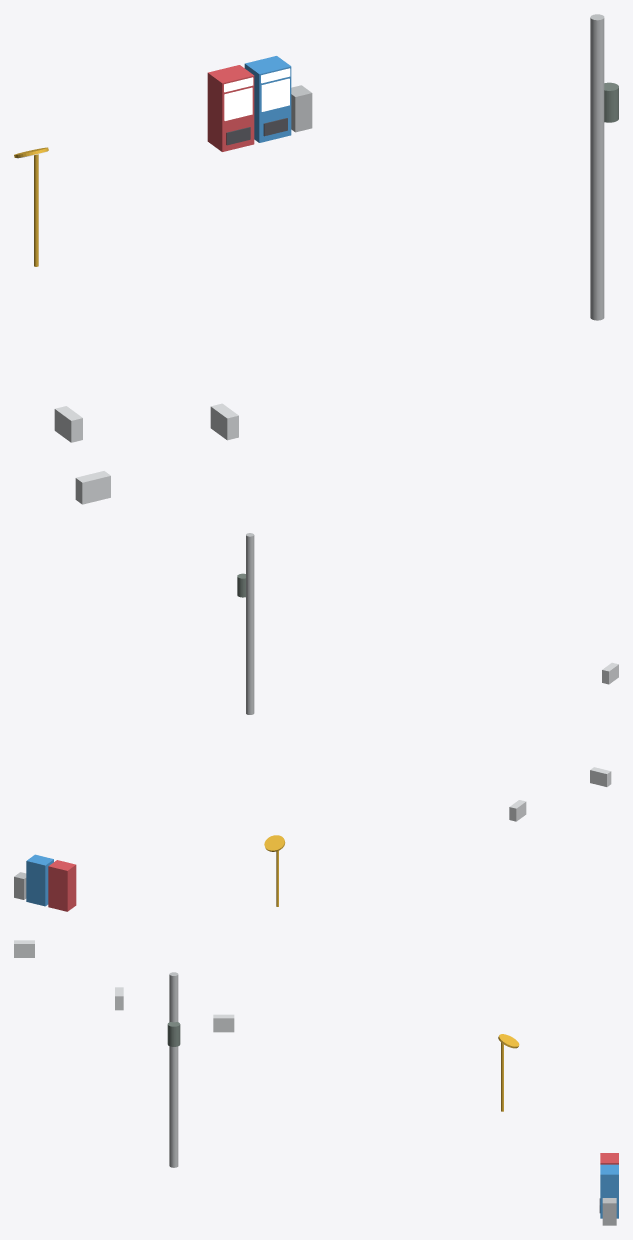
File: street_props.glb
3 views of the same model, one above another, from view 1: azimuth 30°, elevation 25°; view 2: azimuth 150°, elevation 25°; view 3: azimuth 270°, elevation 25° (orthographic). The views are drawn at different scales.
Parts seen in each view (by area): view 1: Utility_Pole_1, Vending_Red_Body, Vending_Blue_Body, AC_Unit_1, Vending_Recycle_Bin, AC_Unit_3, AC_Unit_2, Vending_Blue_Window, Vending_Red_Window; view 2: Utility_Pole_1, Vending_Red_Body, Vending_Blue_Body; view 3: Utility_Pole_1, Vending_Blue_Body, Vending_Recycle_Bin, AC_Unit_3.
Part boxes in pixels (box(x1,y1,x2,y2)): Utility_Pole_1: box(590, 14, 604, 320); Vending_Red_Body: box(207, 65, 254, 151); Vending_Blue_Body: box(244, 56, 291, 142); AC_Unit_1: box(75, 471, 110, 504); Vending_Recycle_Bin: box(291, 85, 312, 132); AC_Unit_3: box(54, 406, 82, 442); AC_Unit_2: box(210, 403, 238, 440); Vending_Blue_Window: box(261, 78, 289, 111); Vending_Red_Window: box(224, 87, 252, 120); Utility_Pole_1: box(246, 533, 254, 714); Vending_Red_Body: box(48, 860, 76, 911); Vending_Blue_Body: box(26, 854, 53, 906); Utility_Pole_1: box(169, 972, 178, 1167); Vending_Blue_Body: box(600, 1164, 618, 1218); Vending_Recycle_Bin: box(602, 1198, 616, 1225); AC_Unit_3: box(213, 1014, 234, 1032).
Size of what is drawn, in the model's own units: 18.12 by 10.45 by 24.3.
